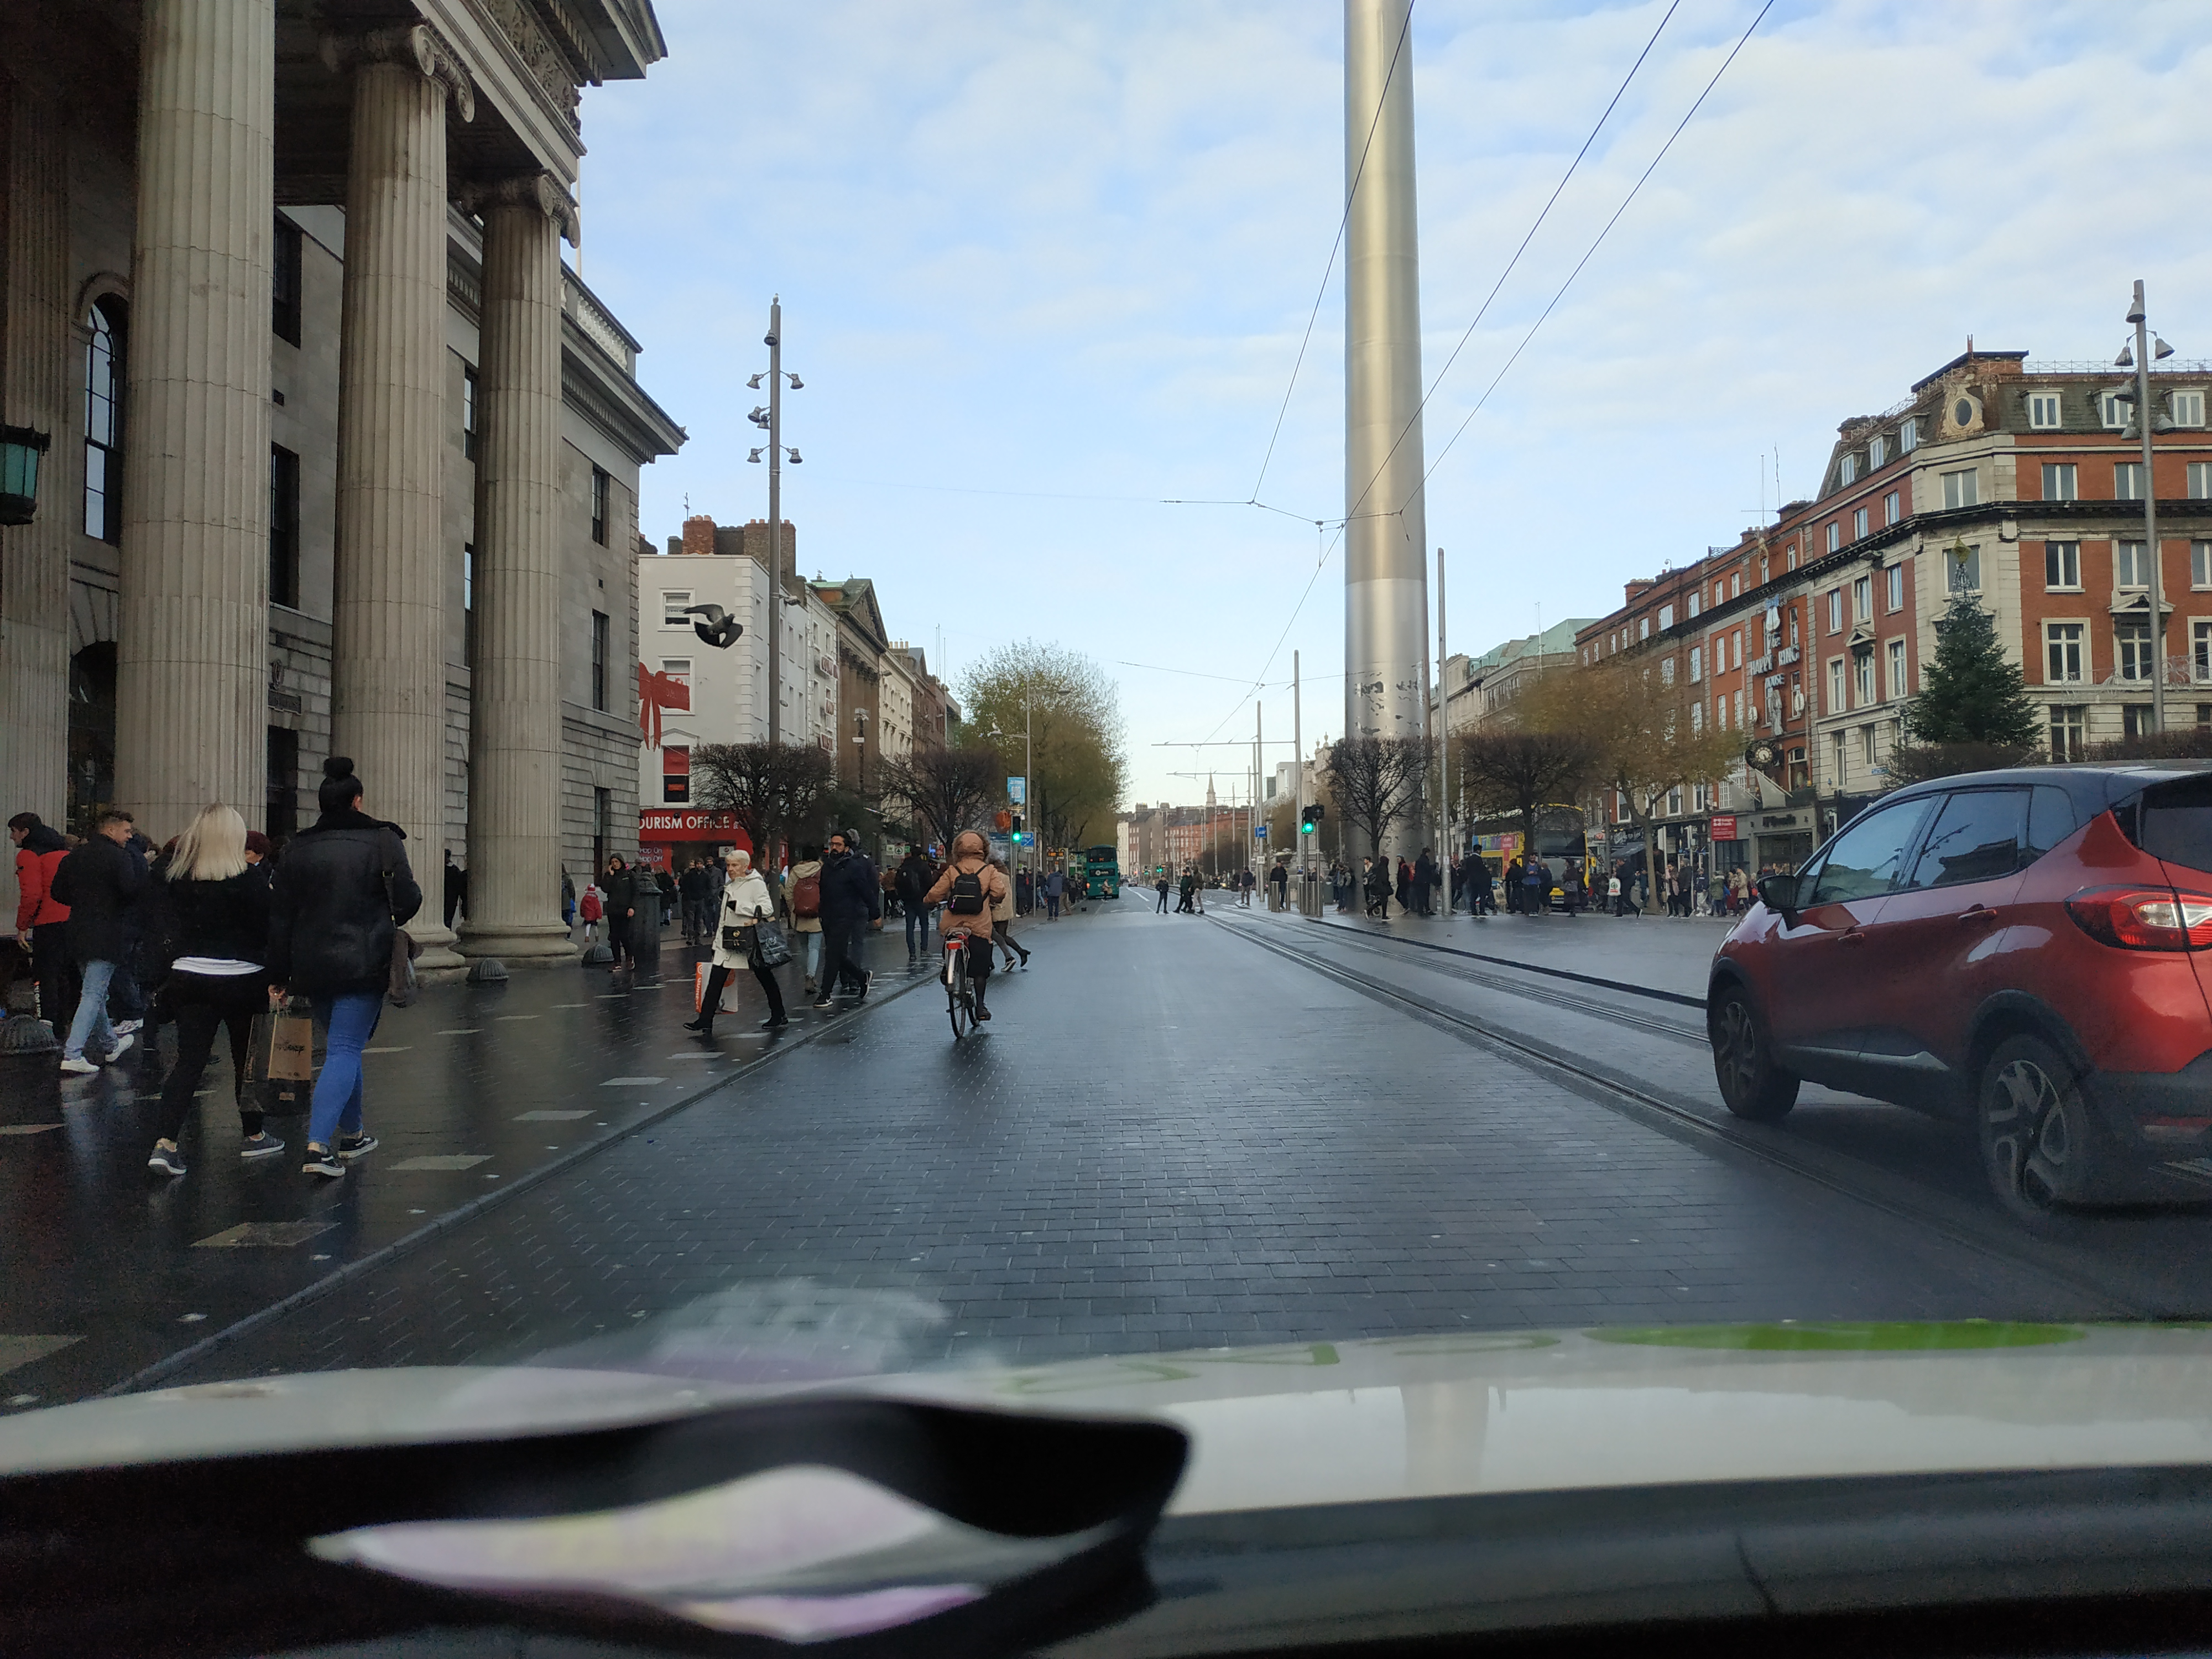Bicycle: (925, 900, 982, 1040)
Bus: (1469, 806, 1590, 909), (1082, 845, 1120, 899)
Car: (1706, 759, 2212, 1226)
Person: (268, 758, 422, 1178), (147, 804, 285, 1177), (52, 812, 139, 1073), (682, 851, 795, 1031), (922, 830, 1006, 1022), (813, 832, 882, 1011), (600, 855, 635, 973)
